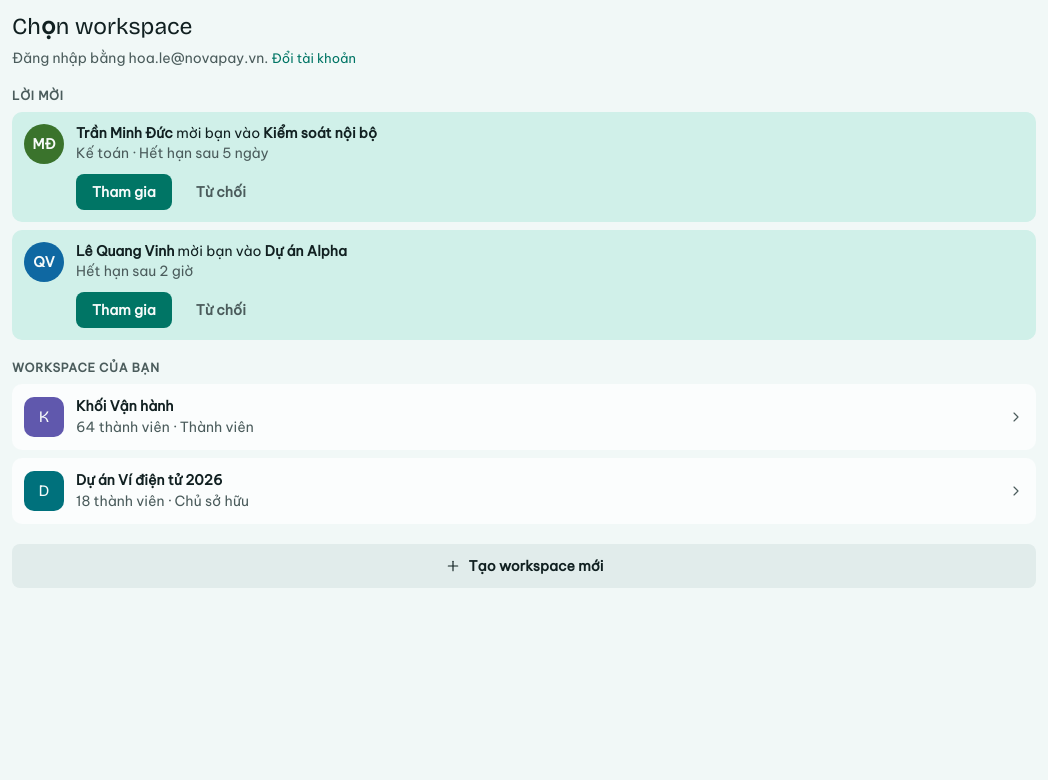
it: Workspace selection: invitations › declining removes the offer and says so
Click the button "Từ chối" below "Kế toán · Hết hạn sau 5 ngày" at (221, 192), box [180,174,262,210]
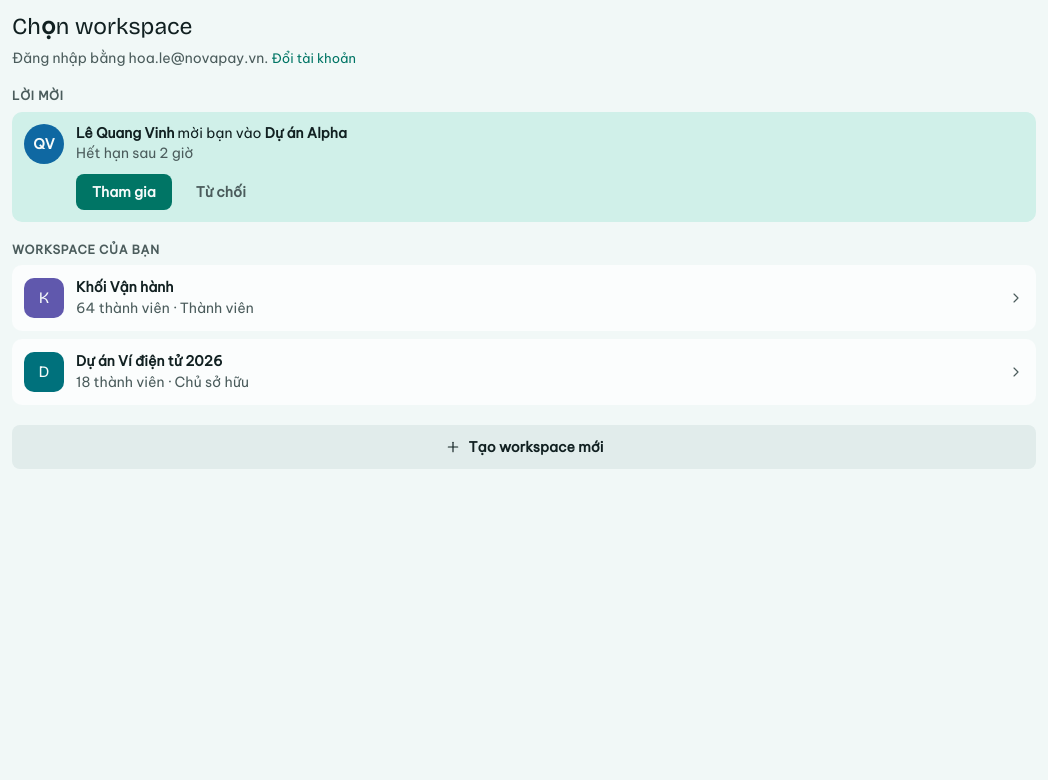
Expected: the text "Dự án Alpha" is shown, [265,124,347,142]
Result: the text "Kiểm soát nội bộ" is gone
